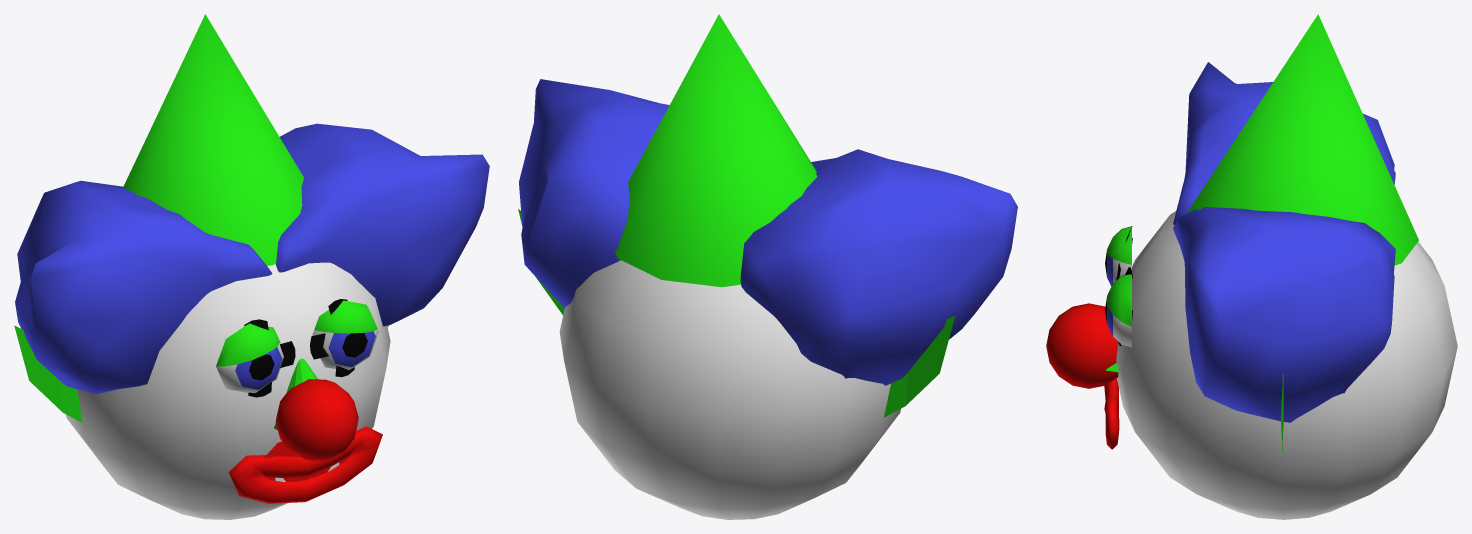
Rendered from clown.fbx.
The picture shows the model from 3 angles, left to right: view 1: azimuth 30°, elevation 25°; view 2: azimuth 150°, elevation 25°; view 3: azimuth 270°, elevation 25°; orthographic projection. The views are drawn at different scales.
Visible parts, largest first — view 1: ClownHat, Head, GoblinEyes, ClownMouth, ClownNose, GoblinHat, ClownEyes, GoblinMouth; view 2: ClownHat, Head, GoblinHat; view 3: ClownHat, Head, ClownNose, GoblinEyes, ClownMouth.
Boxes of the visible parts, box(x1,y1,x2,y2) form: ClownHat: box(15, 14, 489, 394); Head: box(66, 262, 390, 519); GoblinEyes: box(216, 300, 378, 392); ClownMouth: box(228, 426, 382, 503); ClownNose: box(275, 379, 358, 460); GoblinHat: box(14, 325, 388, 422); ClownEyes: box(244, 299, 354, 397); GoblinMouth: box(259, 441, 355, 481); ClownHat: box(519, 14, 1017, 385); Head: box(559, 260, 900, 519); GoblinHat: box(518, 209, 955, 417); ClownHat: box(1173, 14, 1418, 422); Head: box(1116, 211, 1457, 519); ClownNose: box(1046, 303, 1118, 388); GoblinEyes: box(1105, 226, 1131, 347); ClownMouth: box(1104, 378, 1119, 449).
Bounding box in the file's own units: 312 × 311 × 237.
